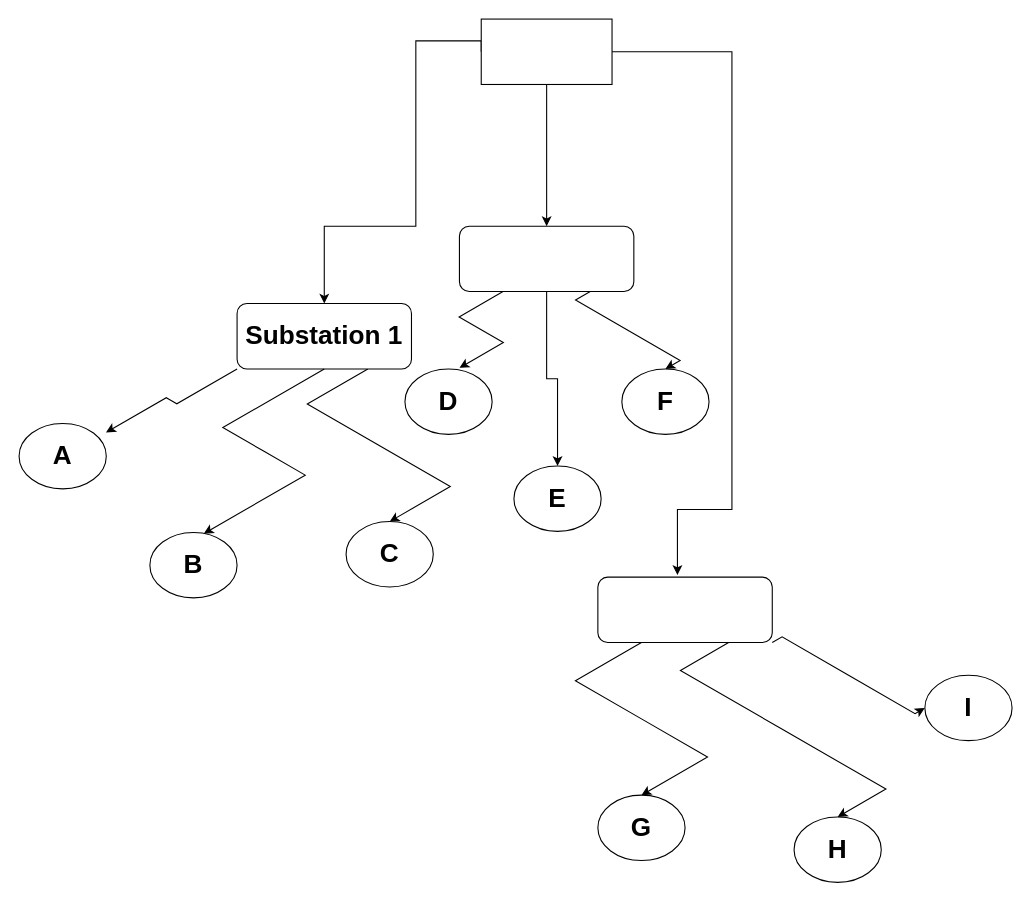
Some shapes in this 1031 by 901 pixel diagram are drawn without their labels. The box of each missing label's shape, as (x1, y1, x2, y2) in pixels:
Station: (480, 18, 612, 84)
Substation 2: (458, 225, 634, 292)
Substation 3: (597, 576, 772, 643)
